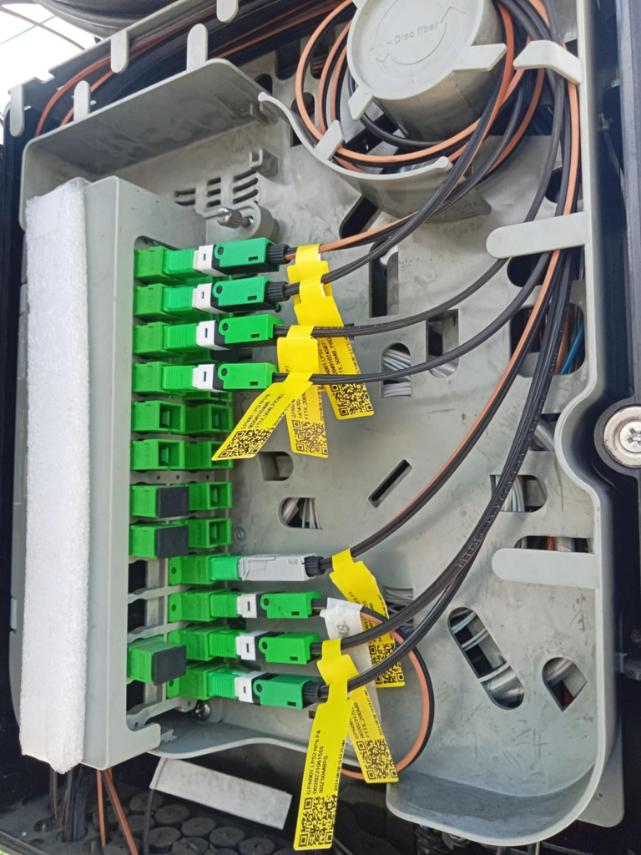no dust cap: (158, 441, 185, 469), (158, 402, 185, 429), (207, 519, 232, 548), (207, 482, 232, 510), (209, 374, 233, 401), (210, 403, 235, 428), (210, 442, 233, 469), (211, 263, 233, 291), (211, 302, 234, 326)
no port: (125, 671, 166, 717), (127, 596, 165, 636), (128, 558, 166, 593)
occupied: (165, 235, 293, 280), (165, 273, 298, 316), (210, 668, 319, 714), (165, 313, 282, 353), (212, 628, 323, 665), (163, 363, 277, 395), (210, 590, 328, 619), (210, 553, 327, 582)
vacant: (155, 645, 187, 683), (159, 526, 190, 558), (160, 486, 189, 516)
